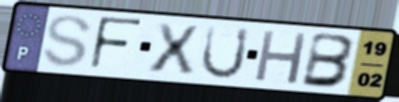B: (298, 31, 358, 90)
F: (87, 14, 145, 73)
H: (252, 28, 311, 87)
S: (39, 13, 94, 70)
U: (198, 23, 253, 82)
X: (146, 21, 201, 76)
